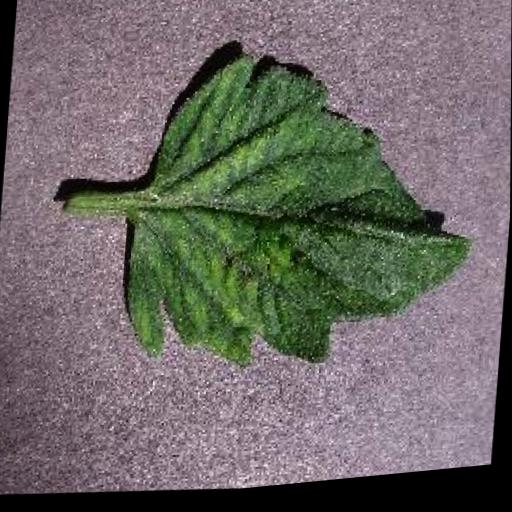Mosaic Virus: (114, 32, 487, 396)
